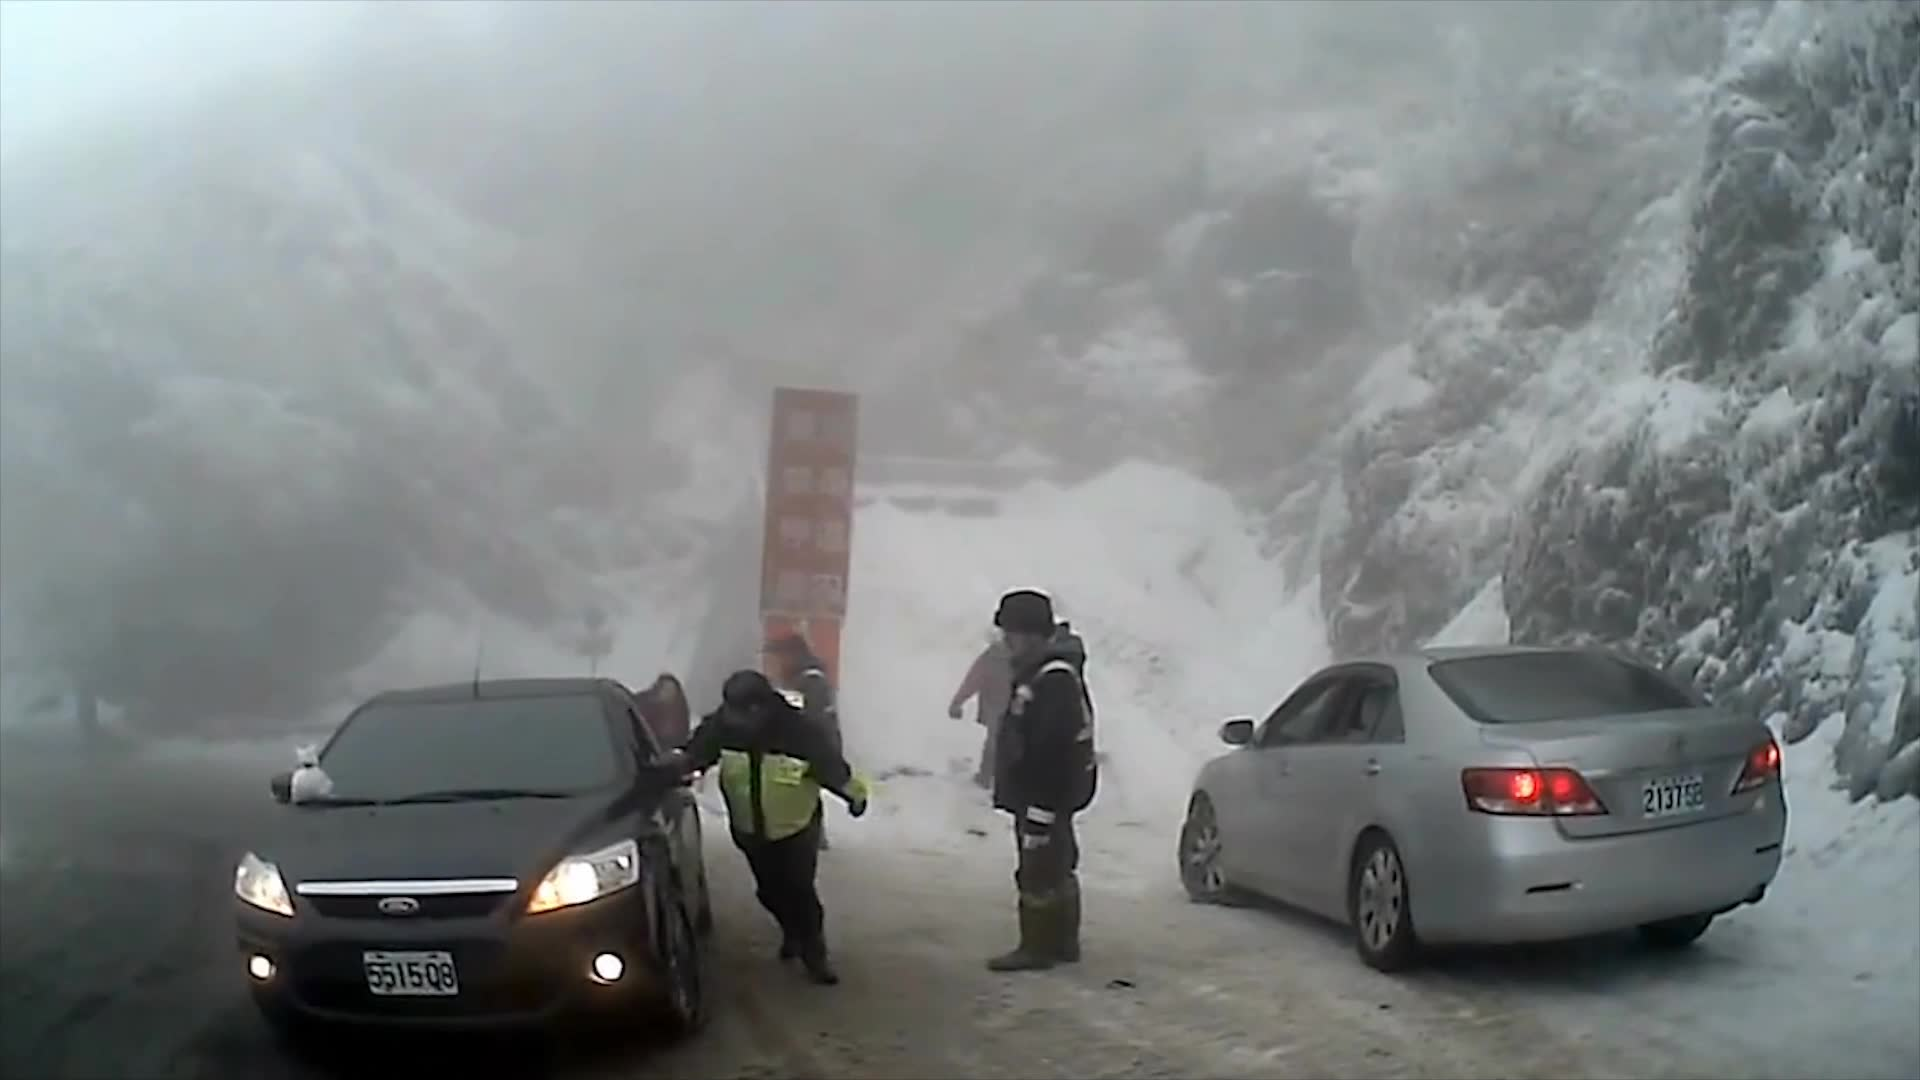pedestrian: (674, 672, 881, 985), (973, 590, 1098, 975), (763, 631, 839, 863), (954, 614, 1043, 798), (616, 671, 696, 852)
vehicle: (1174, 644, 1786, 973), (226, 676, 713, 1043)
